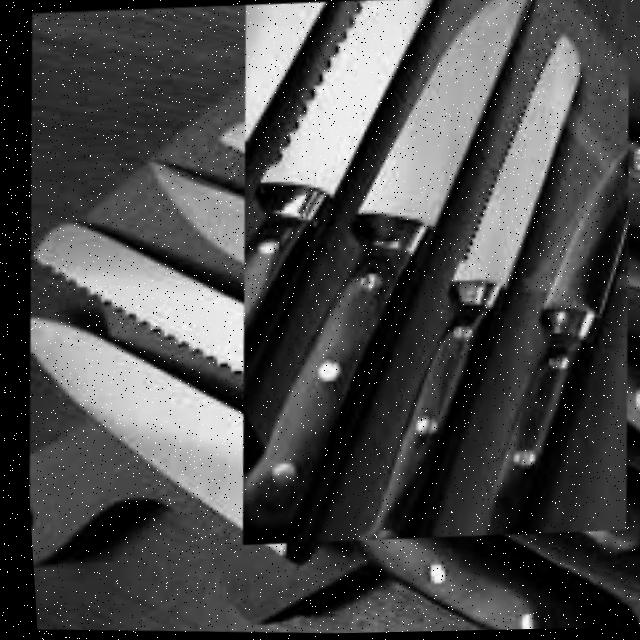knife: (165, 0, 640, 513)
